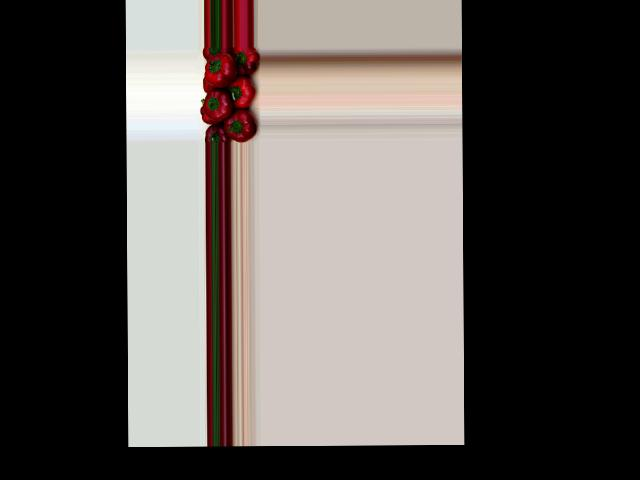bell_pepper: (201, 79, 214, 93)
